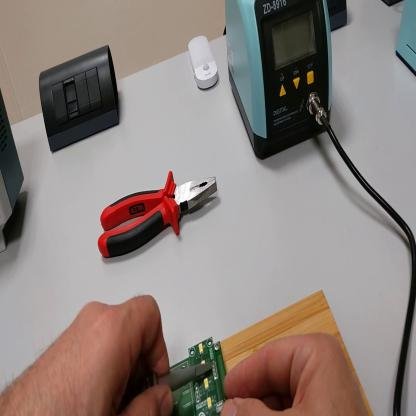hand: (2, 294, 171, 415), (224, 334, 369, 416)
low voltage board: (171, 338, 228, 416)
oscilloscope: (1, 87, 26, 254)
oscilloscope probe tip: (126, 360, 214, 413)
pliers: (98, 159, 222, 255)
socket: (328, 1, 349, 31), (383, 1, 396, 8)
welder base: (397, 2, 416, 76)
welder station: (227, 2, 335, 161)
working area: (225, 289, 374, 413)
